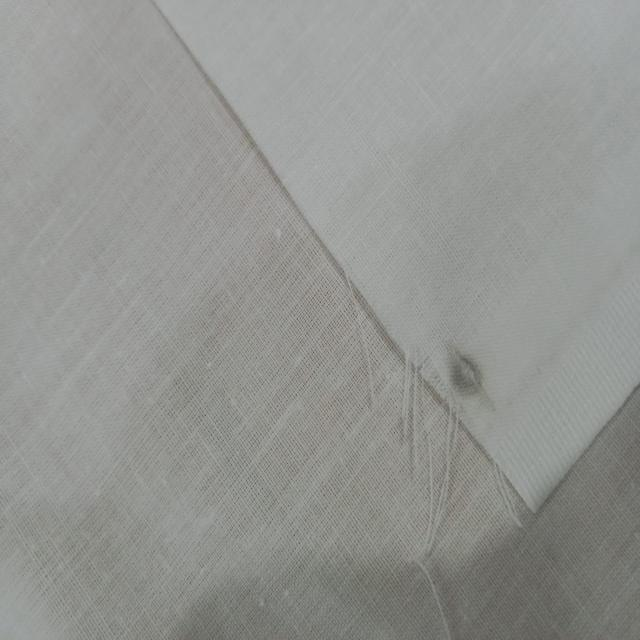stain: (440, 335, 499, 418)
